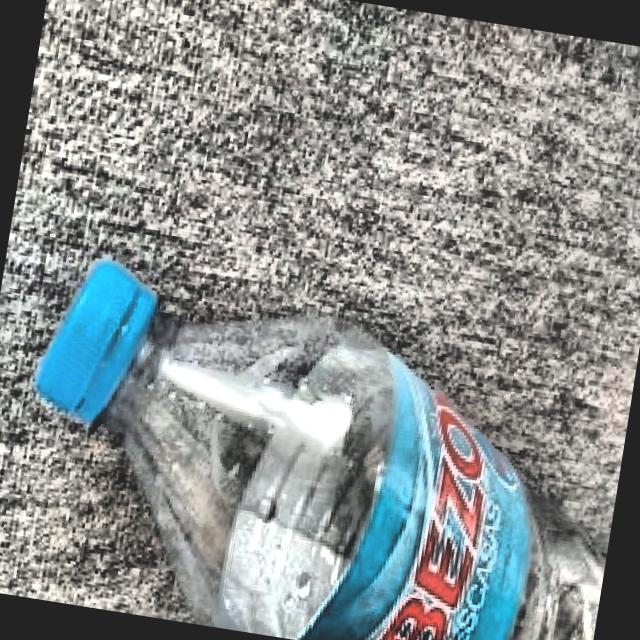plastic bottle: (33, 263, 603, 640)
